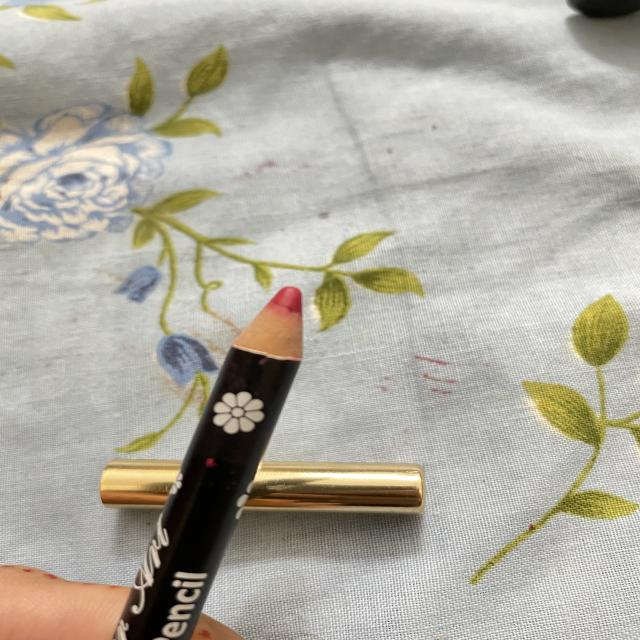lip liner: (83, 273, 341, 640)
